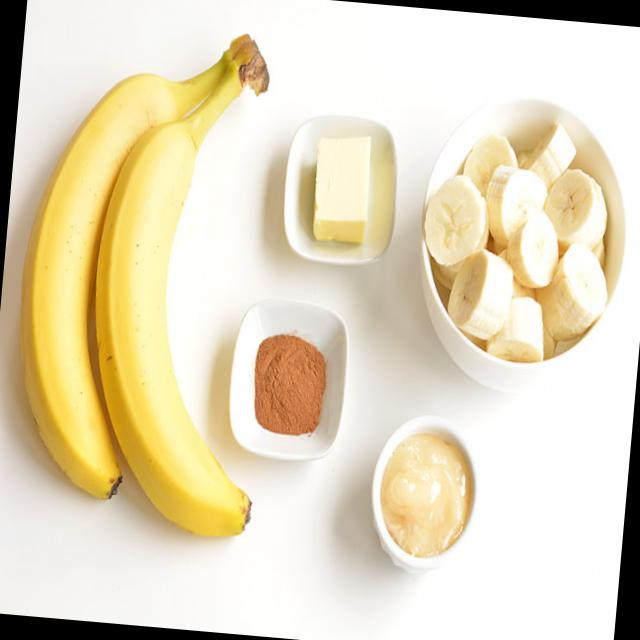banana: (77, 125, 291, 546), (1, 45, 167, 523)
